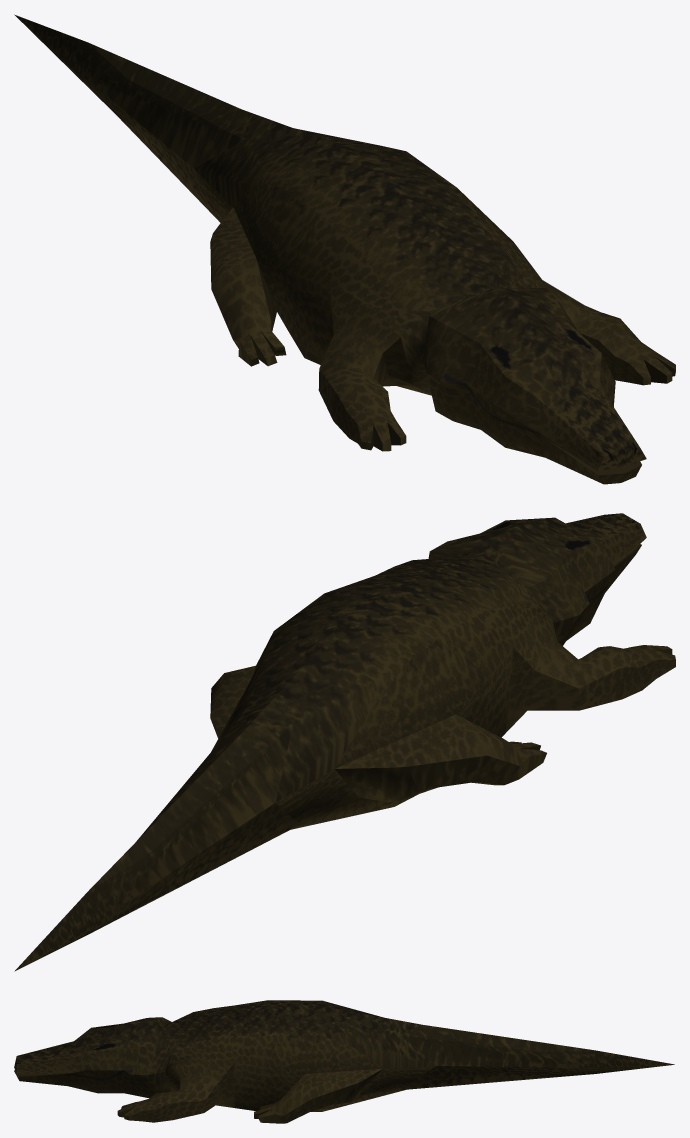
Rendered from crocCOMPLETEFBX.fbx.
3 renders of one model, top to bottom at view 1: azimuth 30°, elevation 25°; view 2: azimuth 150°, elevation 25°; view 3: azimuth 270°, elevation 25°, orthographic. The views are drawn at different scales.
Visible parts, largest first — view 1: pCube1; view 2: pCube1; view 3: pCube1.
Part boxes in pixels (left/top/right/bottom): pCube1: left=14, top=14, right=675, bottom=484; pCube1: left=14, top=513, right=675, bottom=971; pCube1: left=14, top=1000, right=674, bottom=1123.
Size of the model in its own units: 2.19 by 1.19 by 7.37.
Materials: 1 (1 with a texture image).
